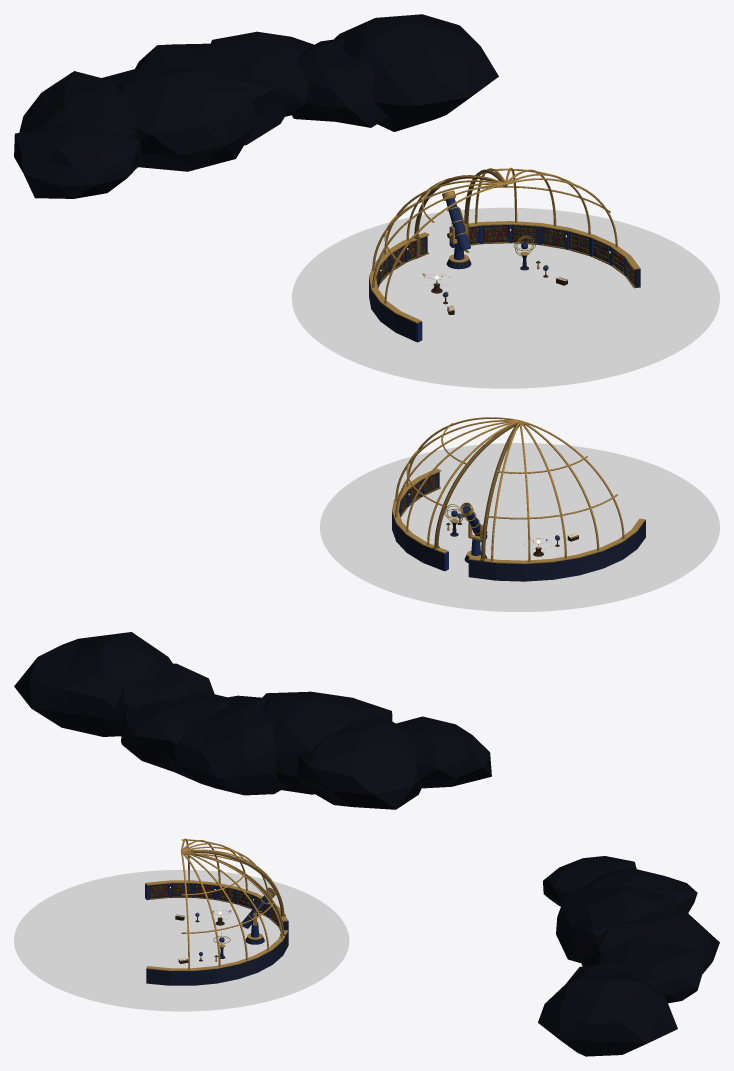
3 views of the same model, one above another, from view 1: azimuth 30°, elevation 25°; view 2: azimuth 150°, elevation 25°; view 3: azimuth 270°, elevation 25° (orthographic). The views are drawn at different scales.
Visible parts, largest first — view 1: decor, sol; view 2: decor, sol; view 3: decor, sol.
Part boxes in pixels (bbox=[...]): decor: bbox=[14, 14, 640, 342]; sol: bbox=[291, 207, 719, 388]; decor: bbox=[14, 417, 645, 809]; sol: bbox=[320, 443, 719, 611]; decor: bbox=[145, 838, 719, 1056]; sol: bbox=[14, 869, 349, 1011].
Bounding box in the file's own units: 121 × 42.44 × 202.
